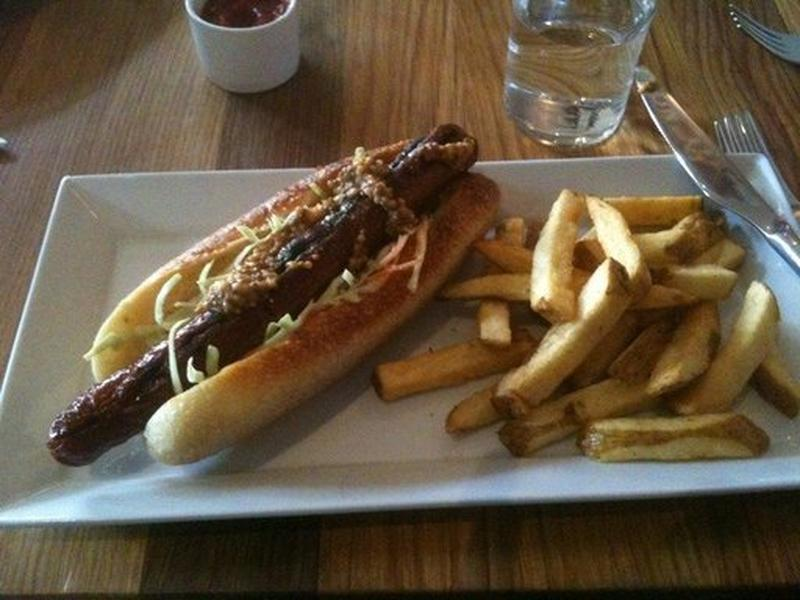hot_dog: (81, 171, 551, 485)
